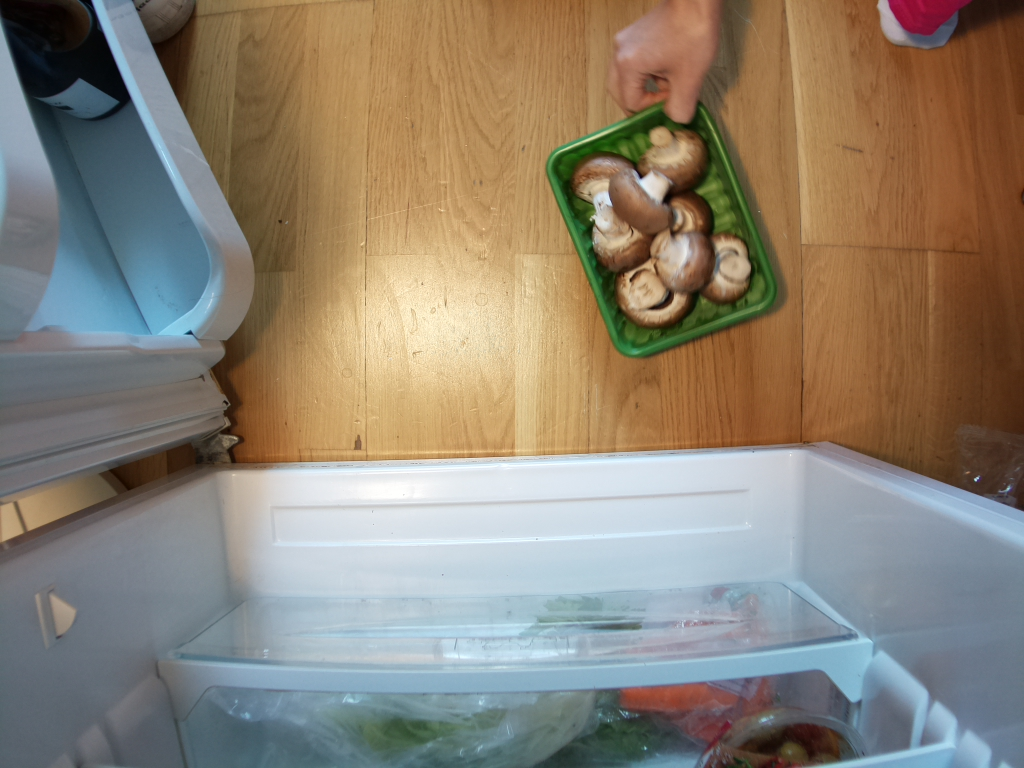mushrooms: (545, 93, 783, 365)
